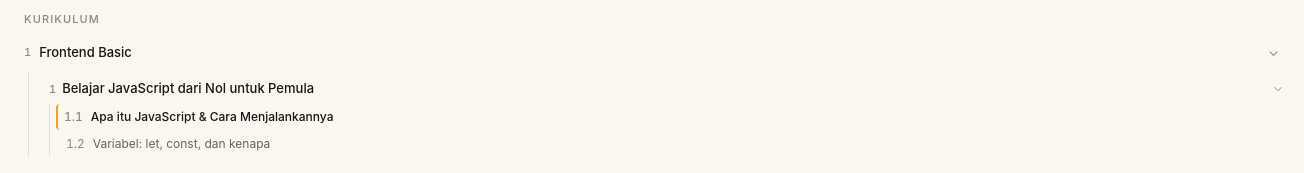
it: SidebarNav › lets the user collapse the chapter that is currently active
Expected: the text "Variabel: let, const, dan kenapa" is shown, [93,136,270,151]
Click the button named "Tutup daftar sub-bab Belajar JavaScript dari Nol untuk Pemula" at [1278, 89], box [1264,75,1292,103]
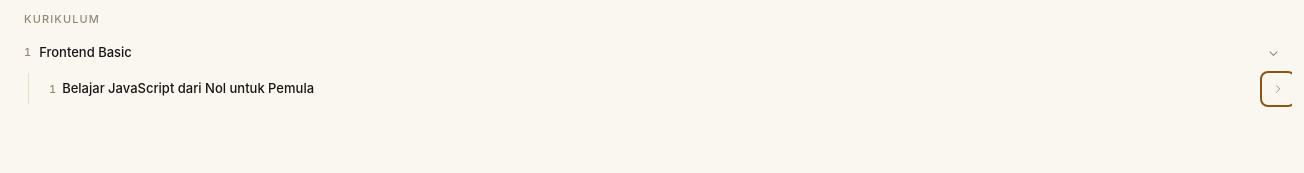
Expected: the link "Variabel: let, const, dan kenapa" is gone
